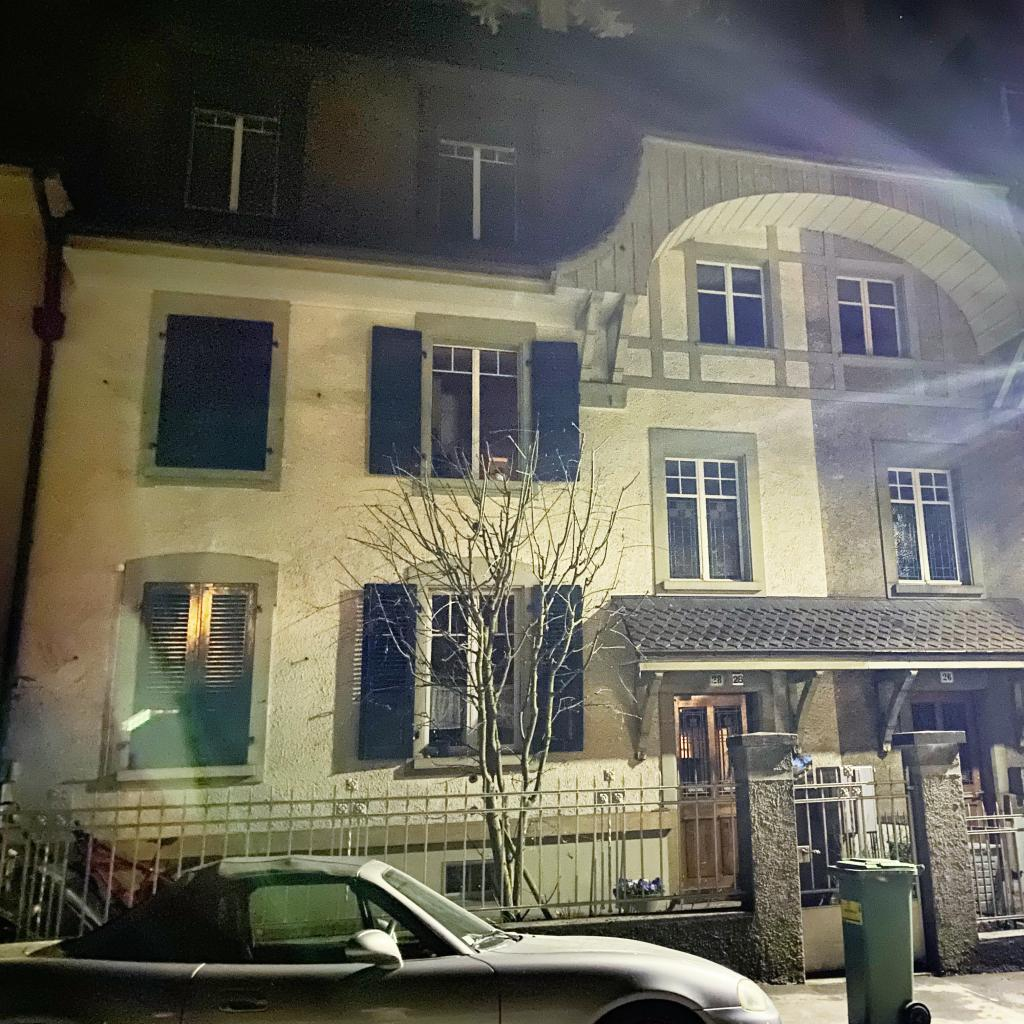car: (0, 853, 784, 1024)
facade: (0, 0, 1024, 943)
fence: (2, 761, 1024, 984)
non-building-infrastructure: (828, 854, 933, 1024)
street: (766, 974, 1024, 1024)
vegetation: (264, 409, 672, 922)
window: (126, 578, 260, 770), (154, 313, 275, 473), (423, 585, 532, 757), (430, 340, 527, 484), (179, 101, 284, 218), (663, 456, 752, 583), (885, 466, 968, 584), (434, 136, 519, 251), (674, 691, 751, 794), (695, 259, 769, 348), (834, 274, 906, 359), (910, 700, 976, 786), (442, 859, 500, 896)
